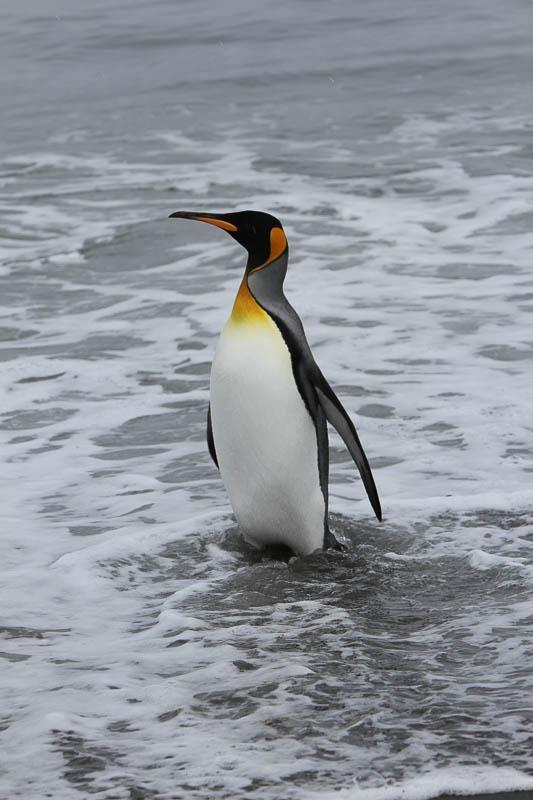king: (157, 187, 461, 694)
